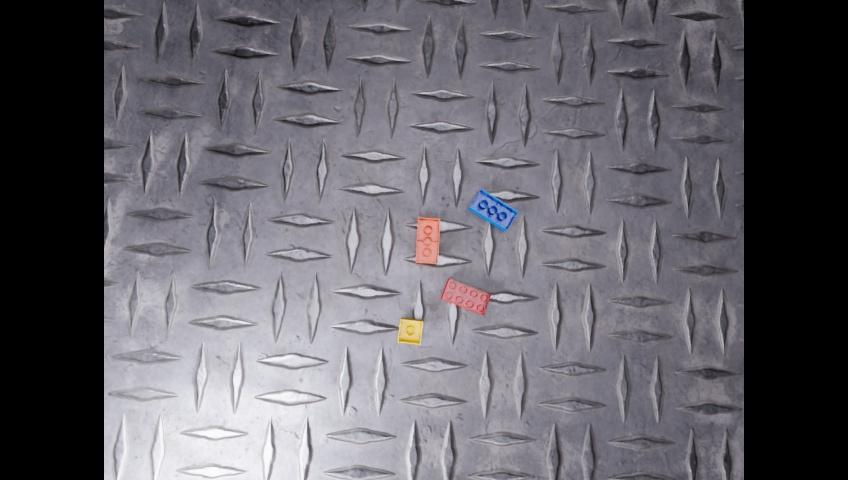2x2_yellow: (397, 317, 424, 345)
4x2_blue: (468, 188, 517, 231)
4x2_orange: (415, 217, 441, 264)
4x2_red: (441, 277, 490, 314)
